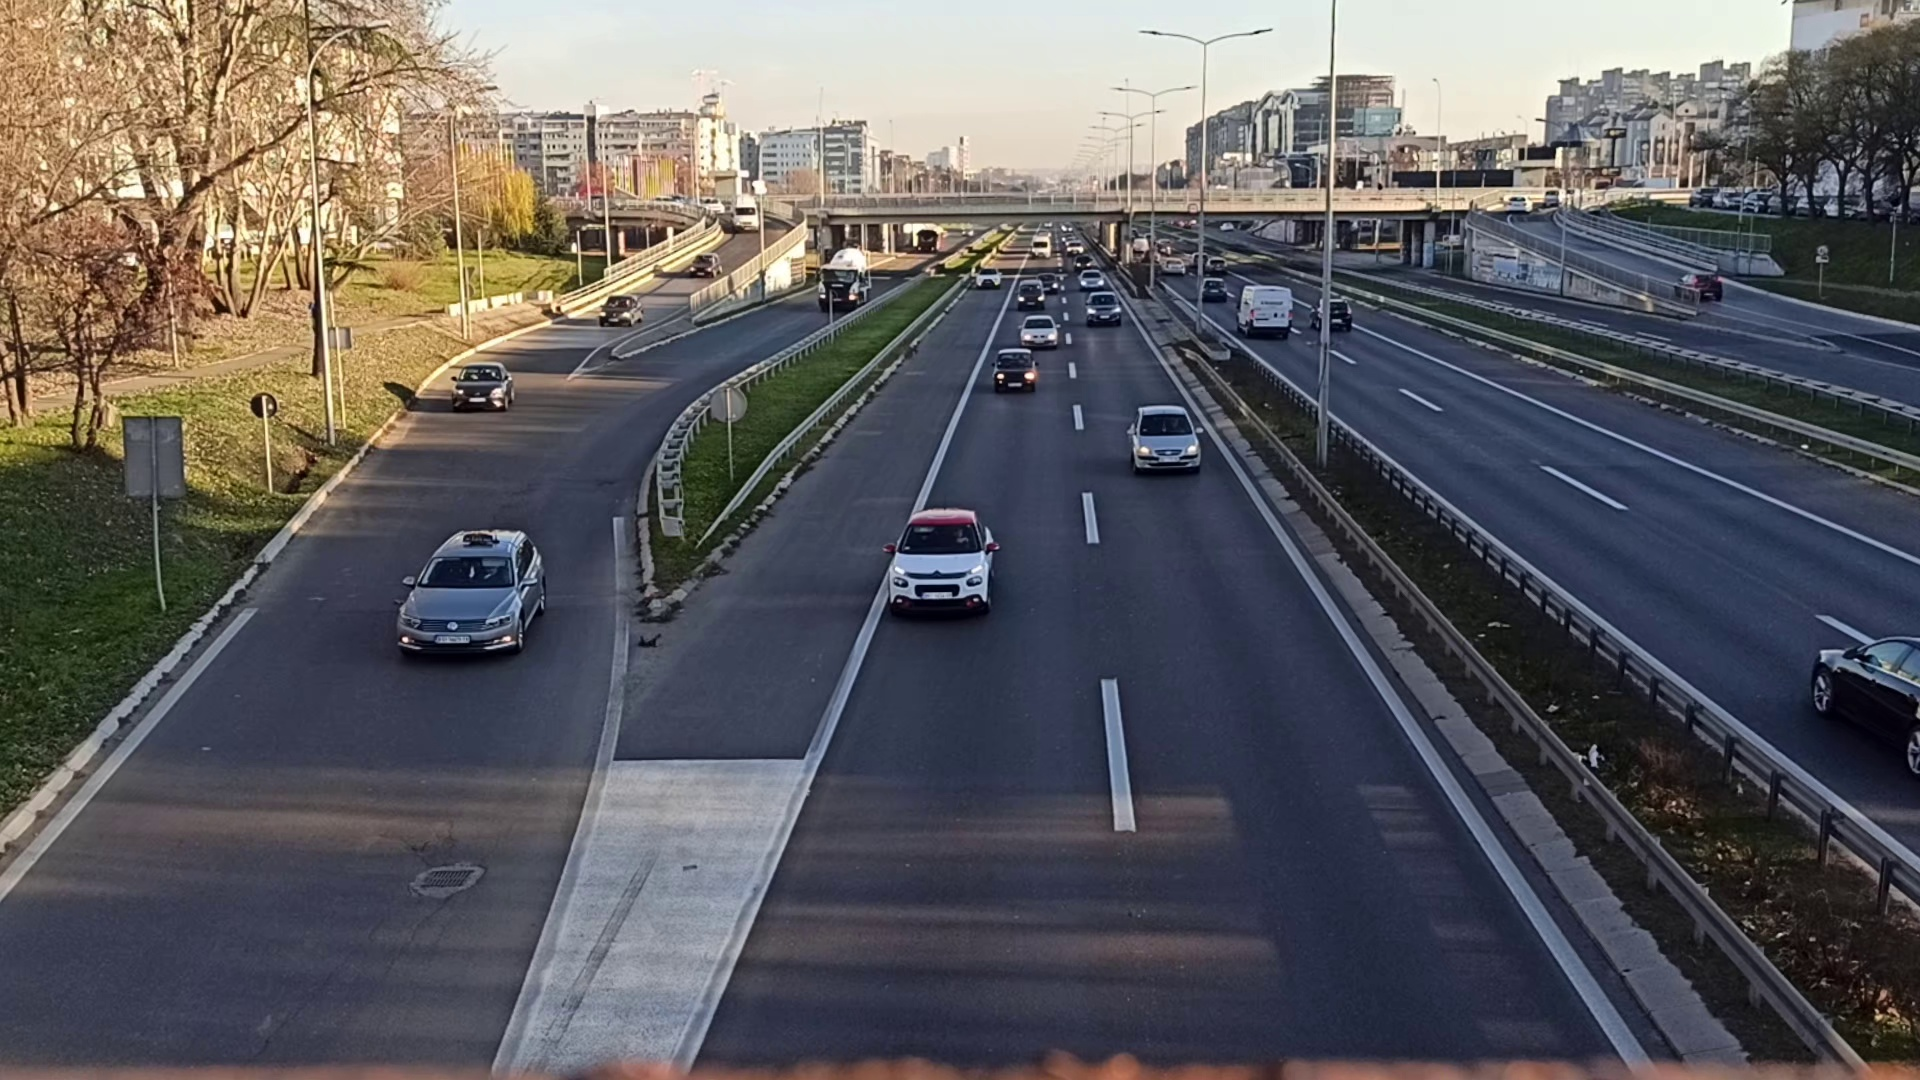car: (394, 525, 550, 659), (886, 508, 1000, 617), (1125, 404, 1207, 475), (452, 361, 513, 413), (992, 349, 1036, 394), (600, 293, 644, 326), (1021, 314, 1060, 349), (1085, 294, 1124, 328), (690, 251, 723, 277), (1015, 278, 1040, 309), (1077, 269, 1104, 290), (1036, 274, 1062, 295)
truck: (818, 251, 869, 309)
van: (1238, 284, 1295, 335), (731, 193, 758, 232), (1031, 232, 1051, 258)
